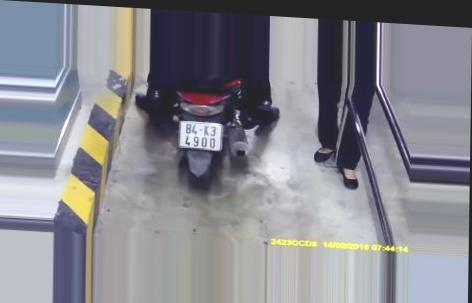License_Plate: (174, 116, 227, 155)
